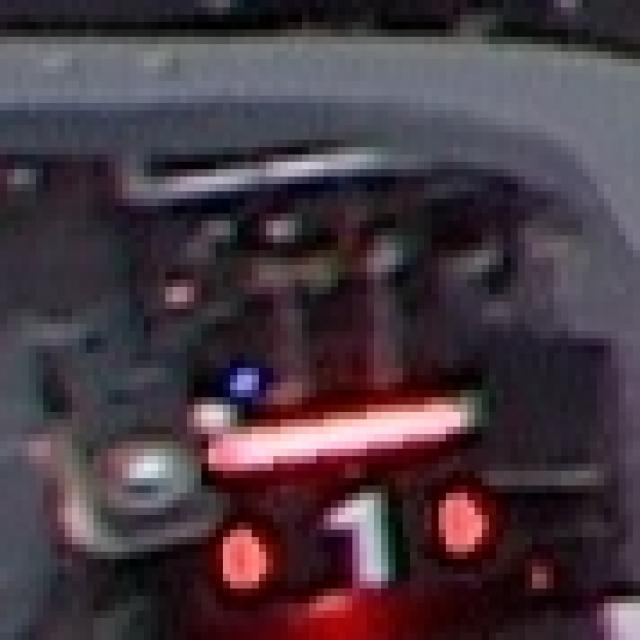R1: (190, 464, 492, 610)
